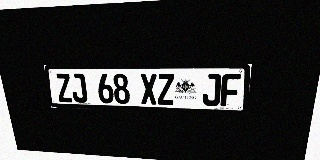6: (96, 74, 114, 103)
8: (112, 74, 130, 104)
F: (220, 74, 241, 107)
J: (202, 74, 221, 106), (70, 74, 88, 103)
X: (140, 74, 157, 105)
Z: (157, 74, 174, 105), (55, 74, 73, 102)
